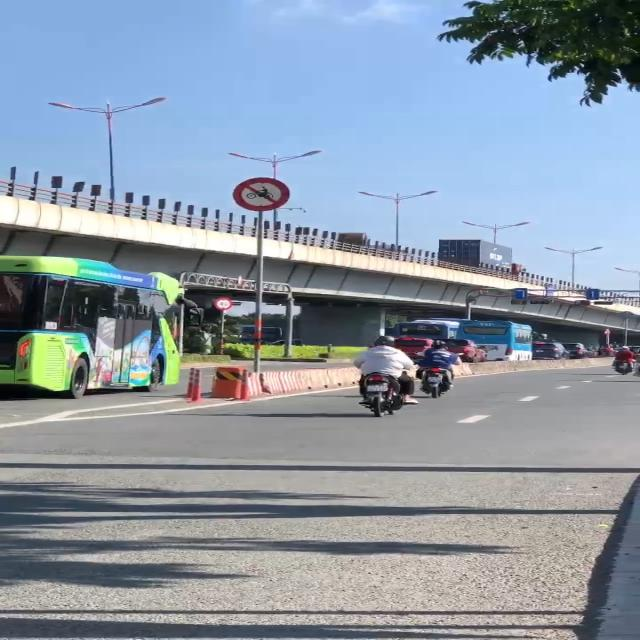Bien bao cam xe may: (232, 171, 299, 214)
